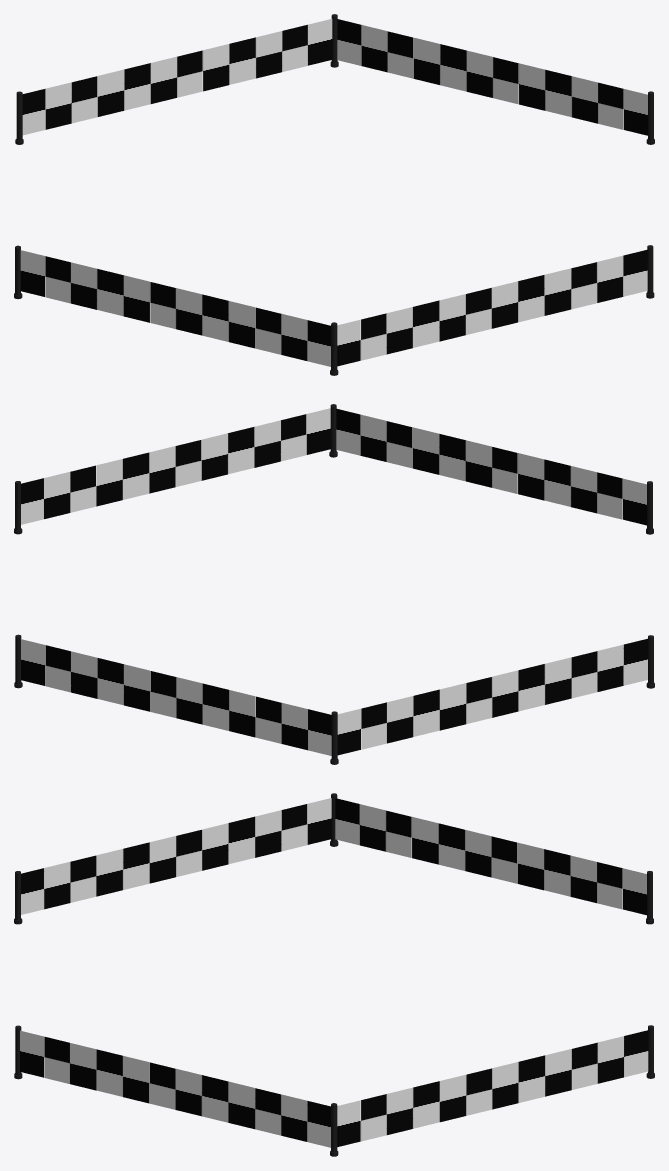
Rendered from Fahne.fbx.
3 views of the same model, one above another, from view 1: azimuth 30°, elevation 25°; view 2: azimuth 150°, elevation 25°; view 3: azimuth 270°, elevation 25° (orthographic).
Parts seen in each view (by area): view 1: Plane.005; view 2: Plane.005; view 3: Plane.005.
Part boxes in pixels (left/top/right/bottom): Plane.005: left=14, top=14, right=654, bottom=375; Plane.005: left=14, top=404, right=654, bottom=764; Plane.005: left=14, top=793, right=654, bottom=1156.
Bounding box in the file's own units: 198 × 15.08 × 171.
